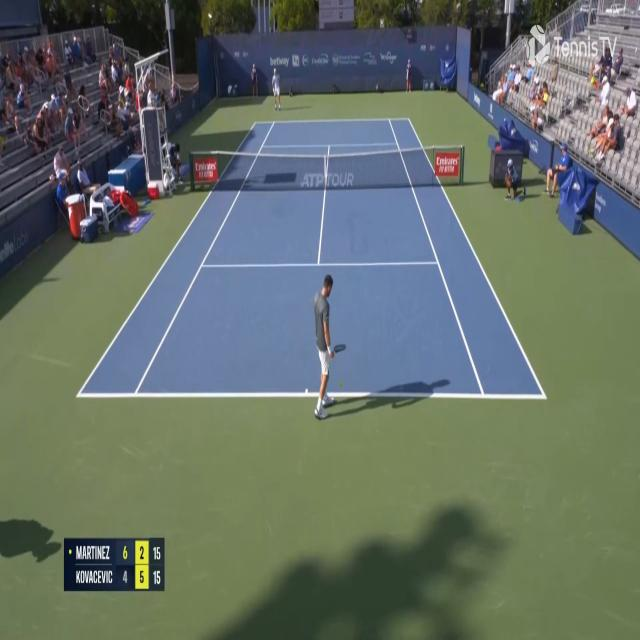tennis-player: (311, 269, 346, 423), (272, 65, 282, 110)
